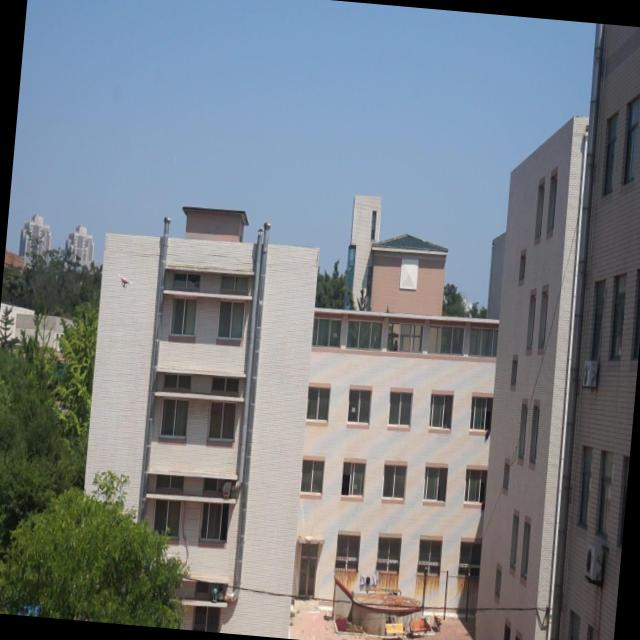drone: (116, 270, 132, 292)
